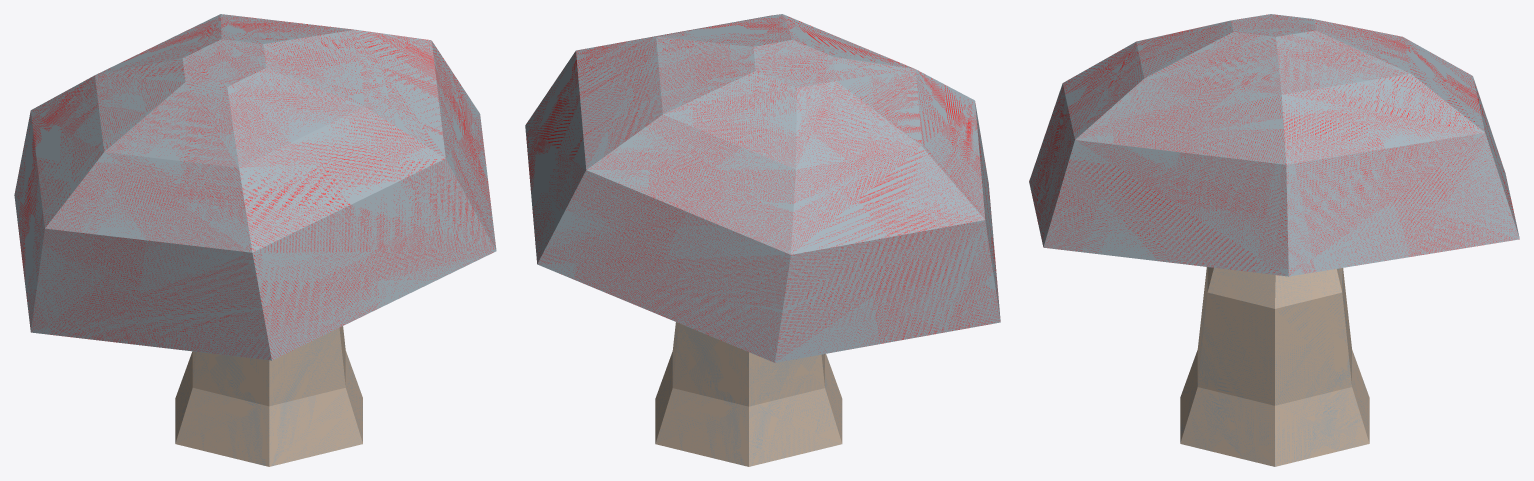
The model's file is Mushroom_04.fbx.
3 views of the same model, side by side, from view 1: azimuth 30°, elevation 25°; view 2: azimuth 150°, elevation 25°; view 3: azimuth 270°, elevation 25° (orthographic).
Visible parts, largest first — view 1: Model; view 2: Model; view 3: Model.
Boxes of the visible parts, x1,y1,x2,y2 form: Model: [14, 14, 496, 466]; Model: [525, 14, 1000, 466]; Model: [1029, 14, 1519, 466].
Bounding box in the file's own units: 59.91 × 46.68 × 54.47.
